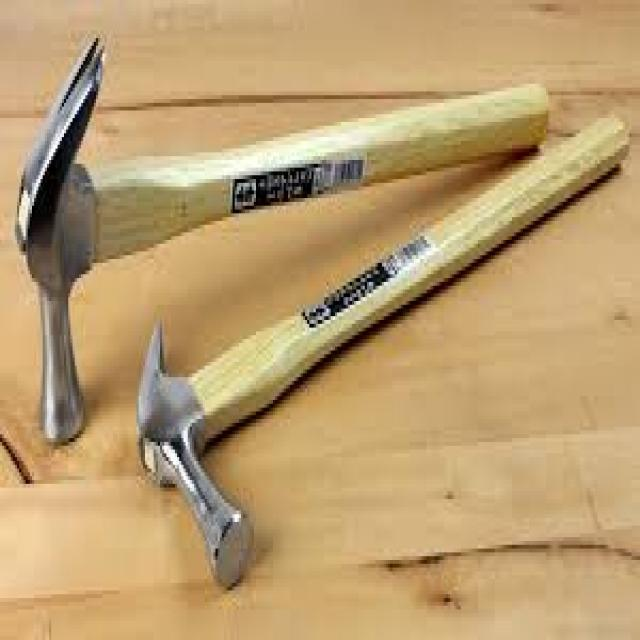hammer: (128, 109, 634, 596), (10, 22, 568, 450)
